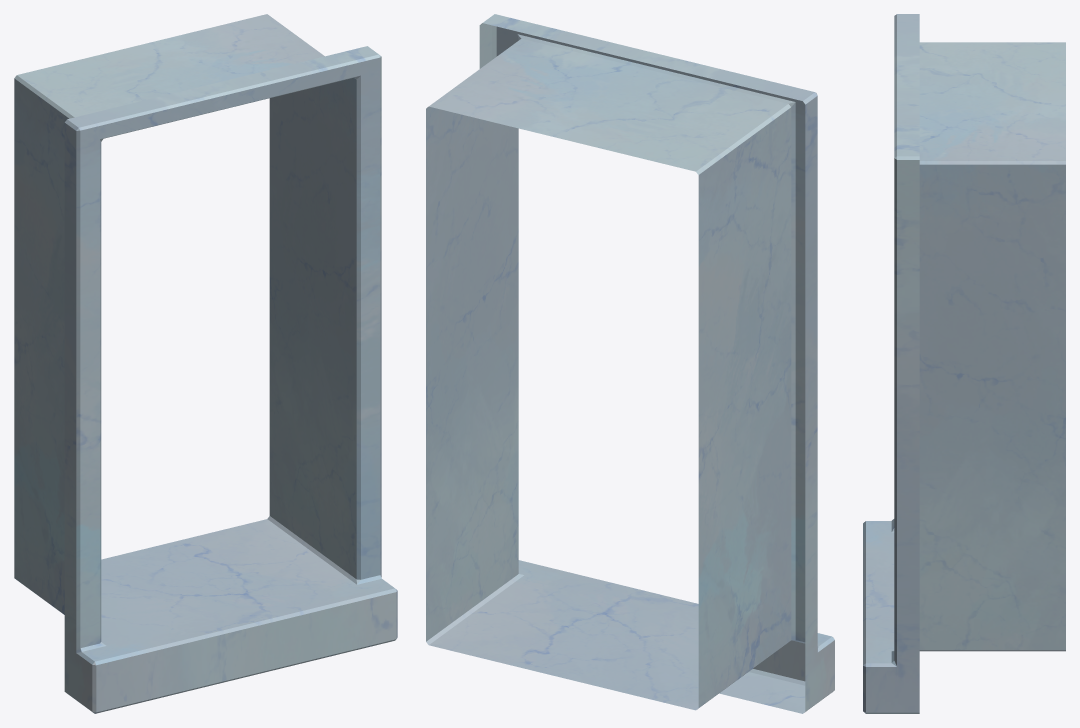
The model's file is Window 4.fbx.
3 views of the same model, side by side, from view 1: azimuth 30°, elevation 25°; view 2: azimuth 150°, elevation 25°; view 3: azimuth 270°, elevation 25° (orthographic). The views are drawn at different scales.
Visible parts, largest first — view 1: Wall with window first floor 2; view 2: Wall with window first floor 2; view 3: Wall with window first floor 2.
Boxes of the visible parts, x1,y1,x2,y2 form: Wall with window first floor 2: (14,14,397,713); Wall with window first floor 2: (426,14,834,713); Wall with window first floor 2: (863,14,1065,713).
Bounding box in the file's own units: 61.05 × 110 × 36.18.
